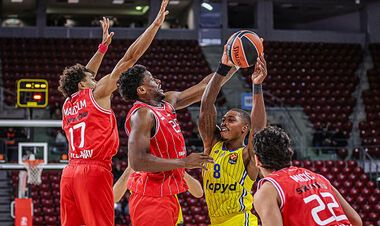ball: (225, 30, 264, 68)
ignore: (112, 164, 131, 208), (183, 171, 203, 199)
player: (57, 0, 170, 226), (116, 30, 238, 225), (198, 31, 268, 226), (252, 126, 363, 226)
